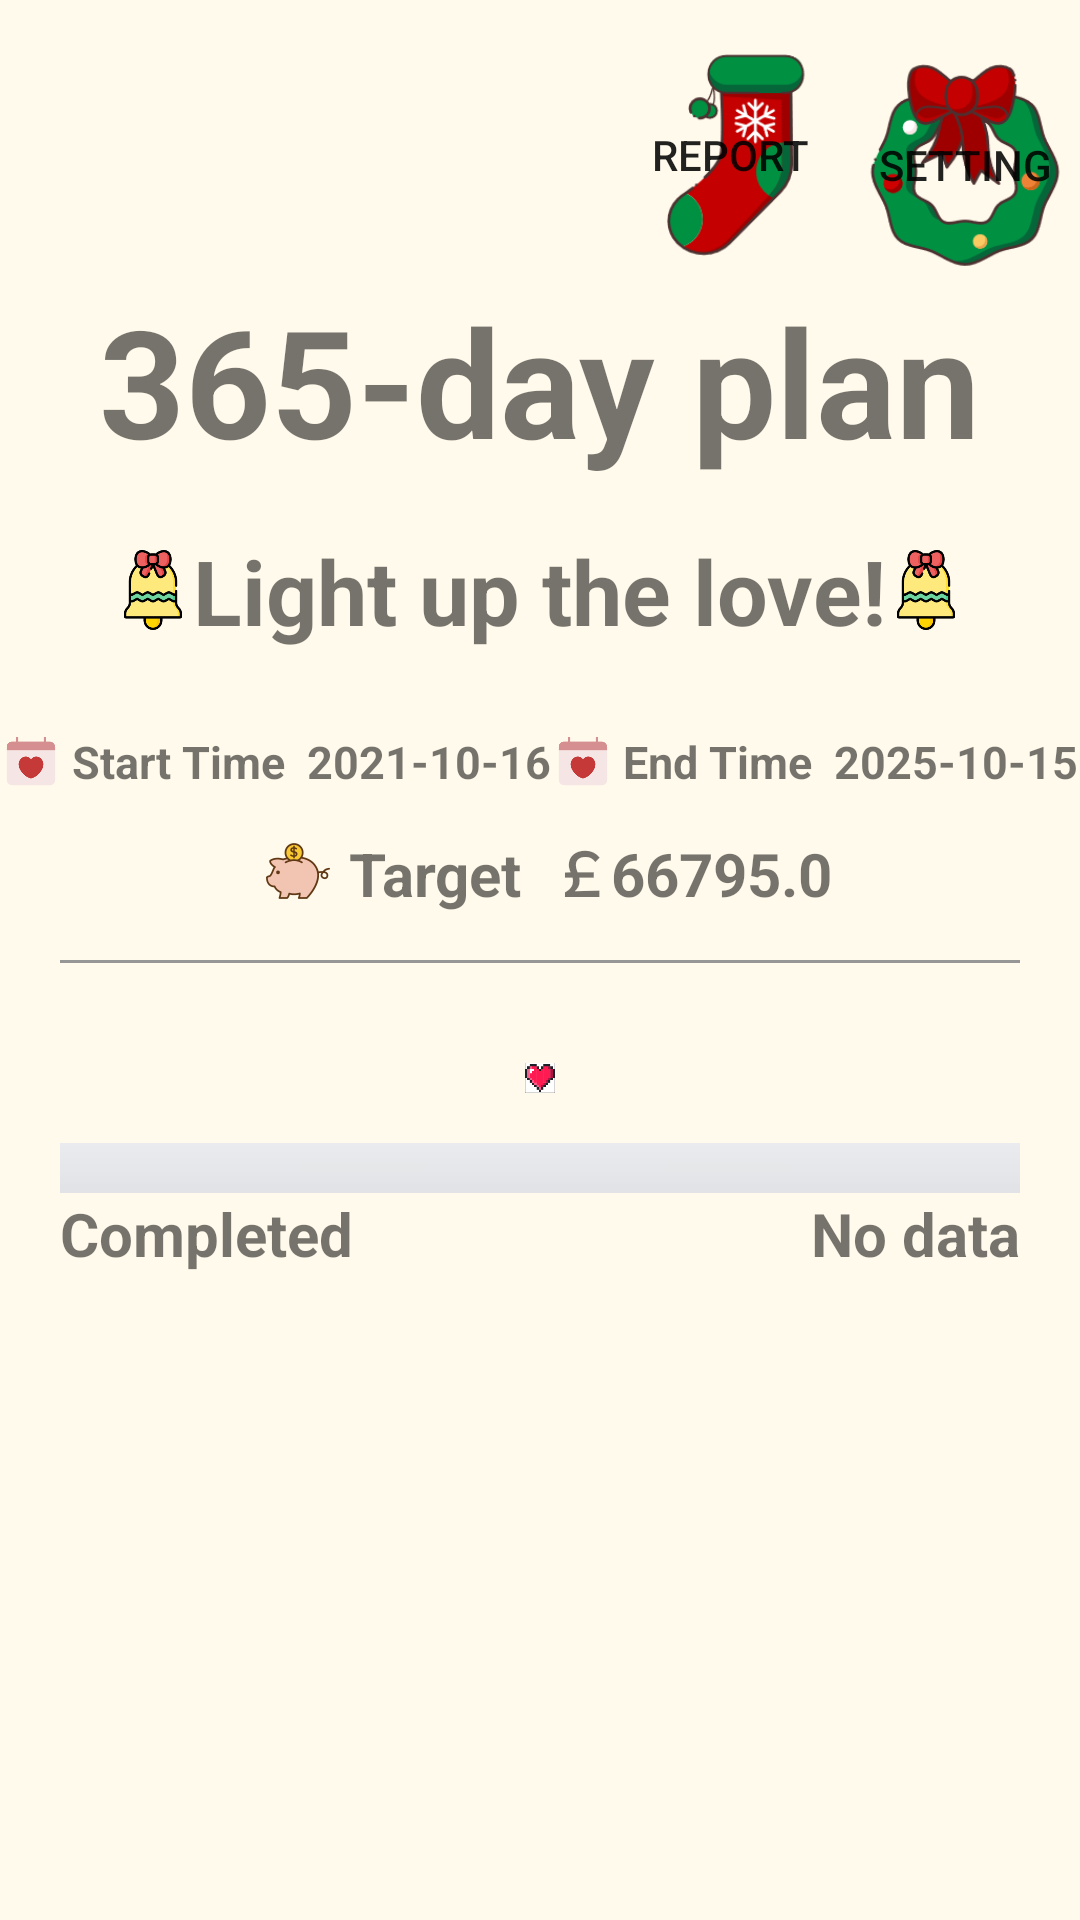

Icon bounding boxes for this 1080×1920 phone screenshot, format box(x1, y1, x2, y2):
heart: box(525, 1063, 555, 1093)
pig: box(266, 843, 330, 899)
